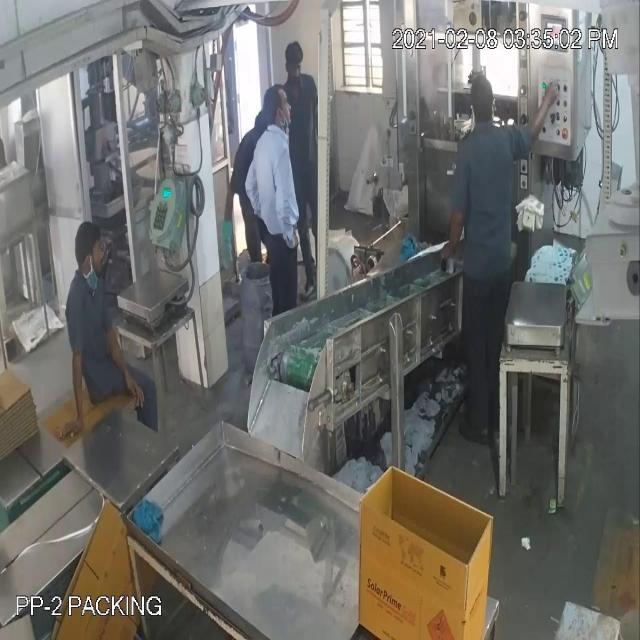No_Gloves: (32, 74, 541, 388)
